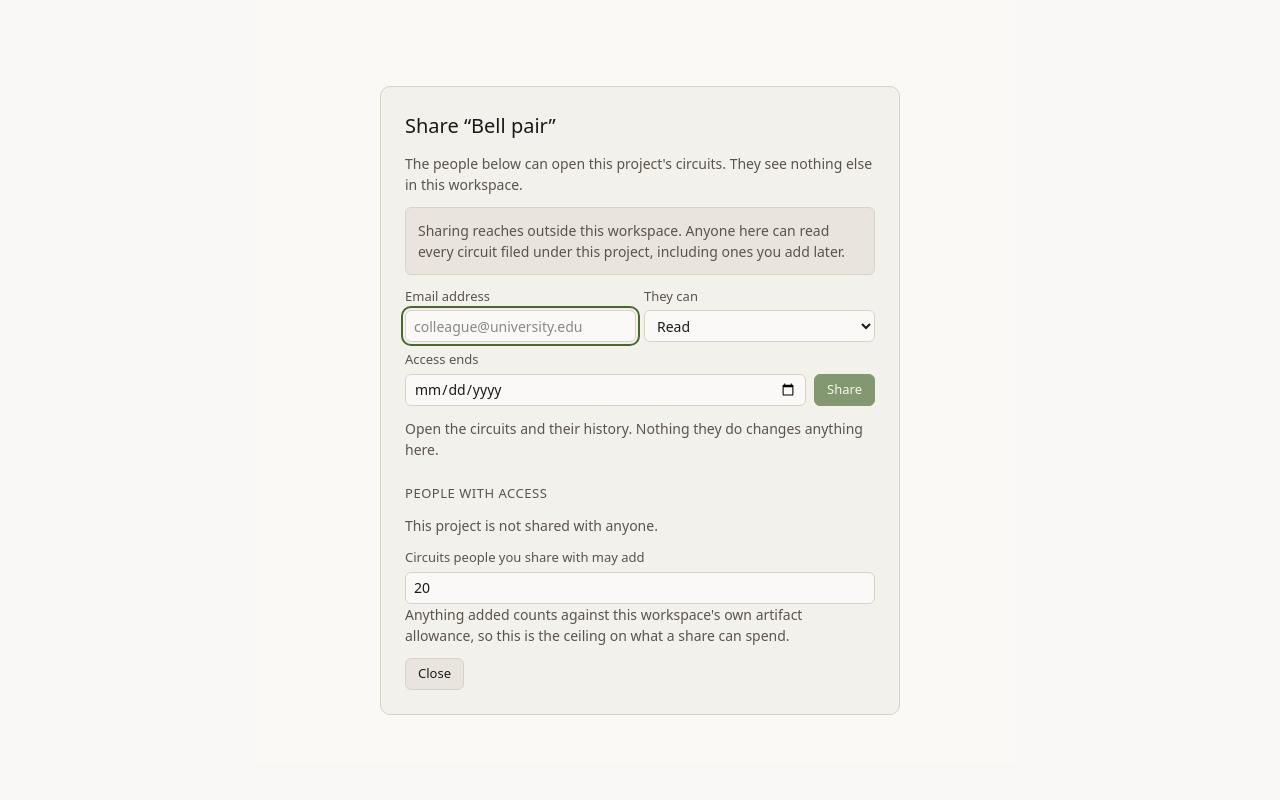
Test: project share dialog: granting access POSTs the email and role to the project's shares endpoint
The width and height of the screenshot is (1280, 800).
Check: the text "This project is not shared with anyone." is shown, box [405, 516, 658, 535]
Check: the form with class "mj-share-form" is shown, box [405, 286, 875, 406]
Type "reader@example.com" into the field labelled "Email address" at (520, 326), box [405, 310, 636, 342]
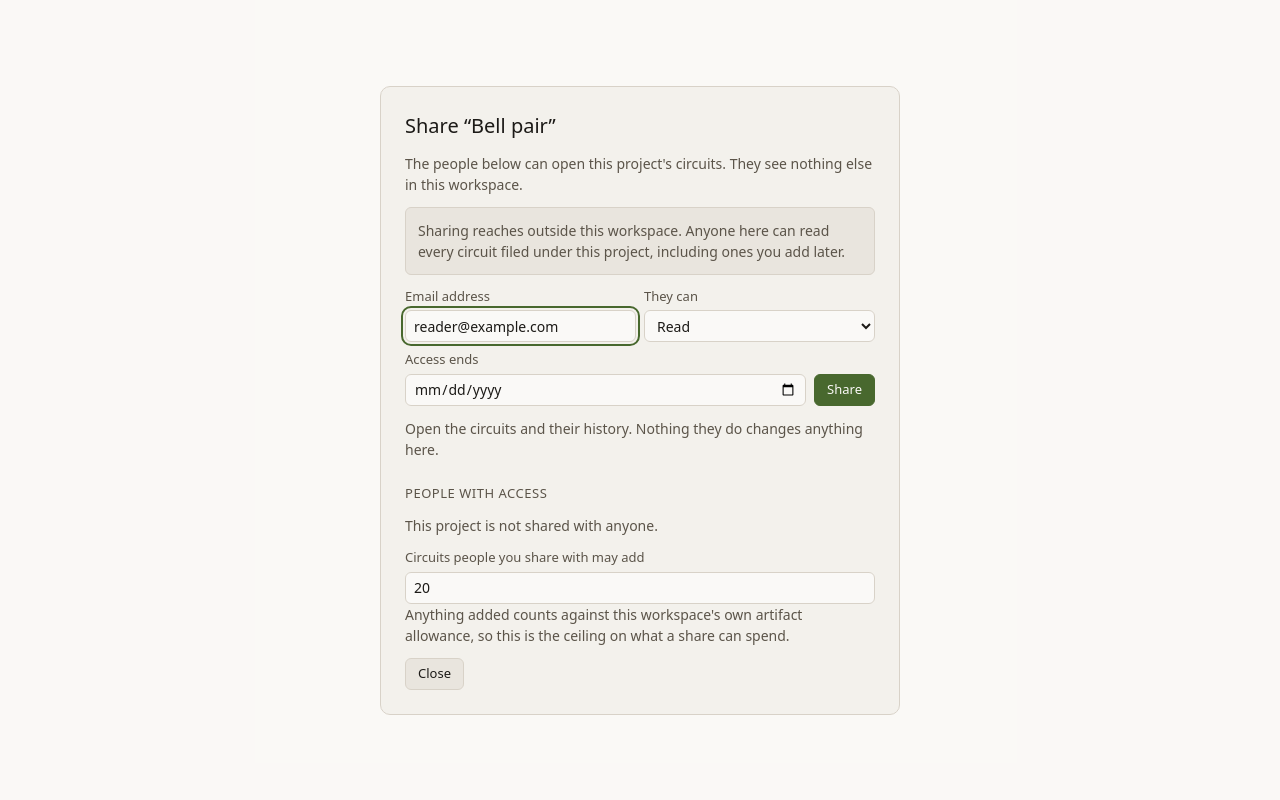
Select "Read and edit" in the dropdown labelled "They can" at (760, 326), box [644, 310, 875, 342]
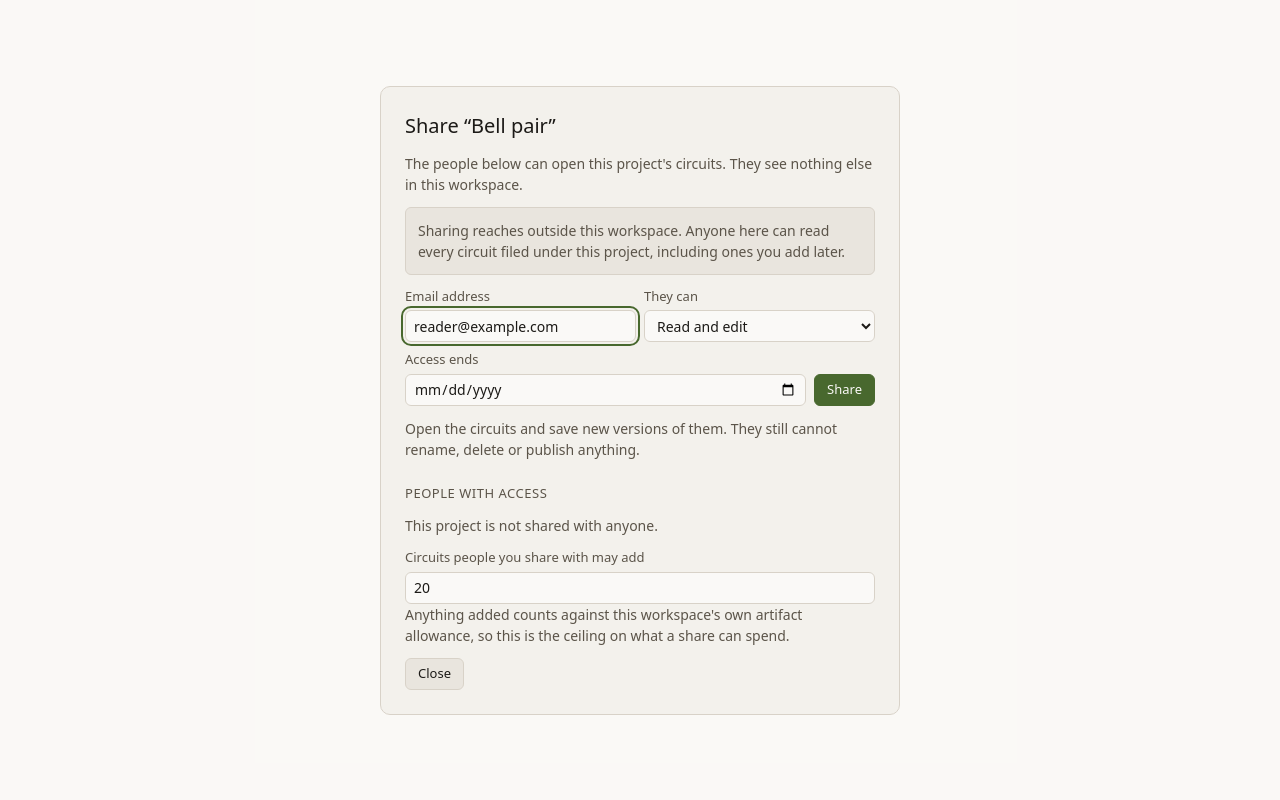
Submit the form with class "mj-share-form", box [405, 286, 875, 406]
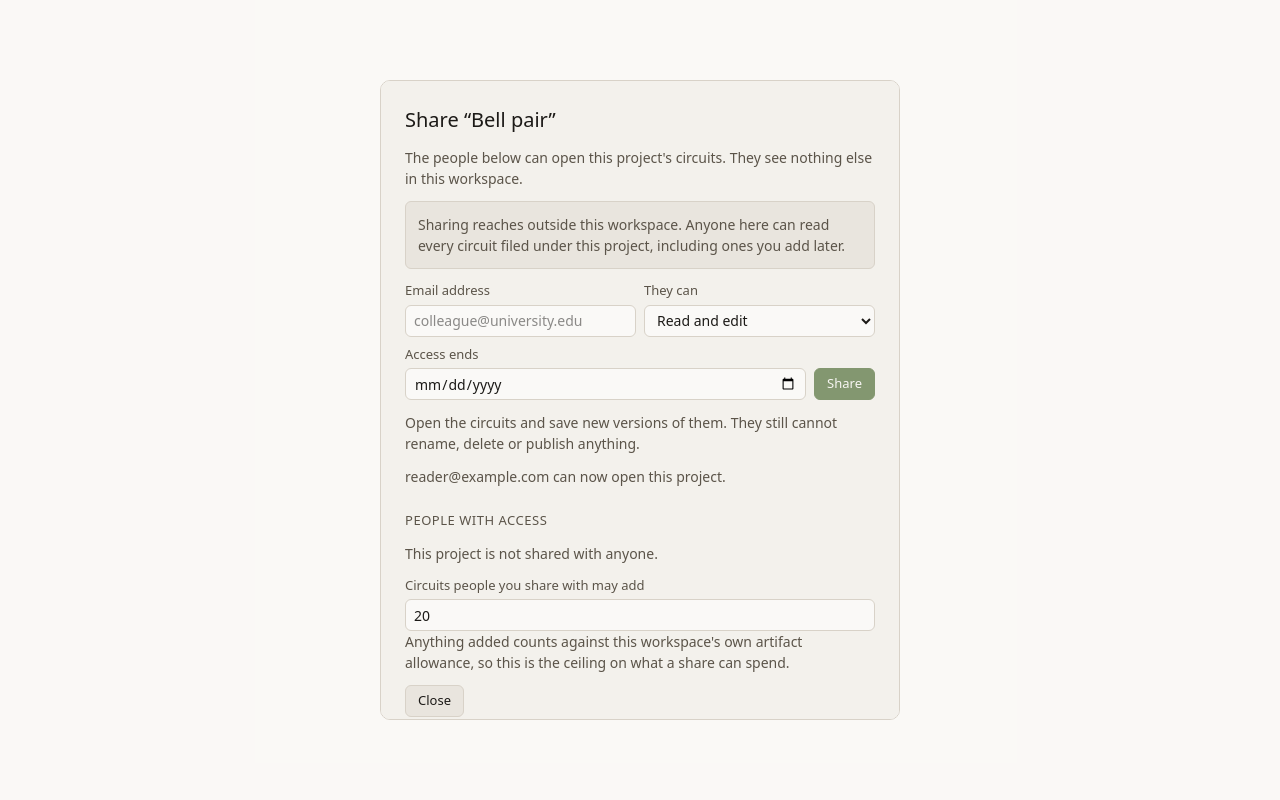
Check: the text "reader@example.com can now open this project." is shown, box [405, 467, 726, 486]
